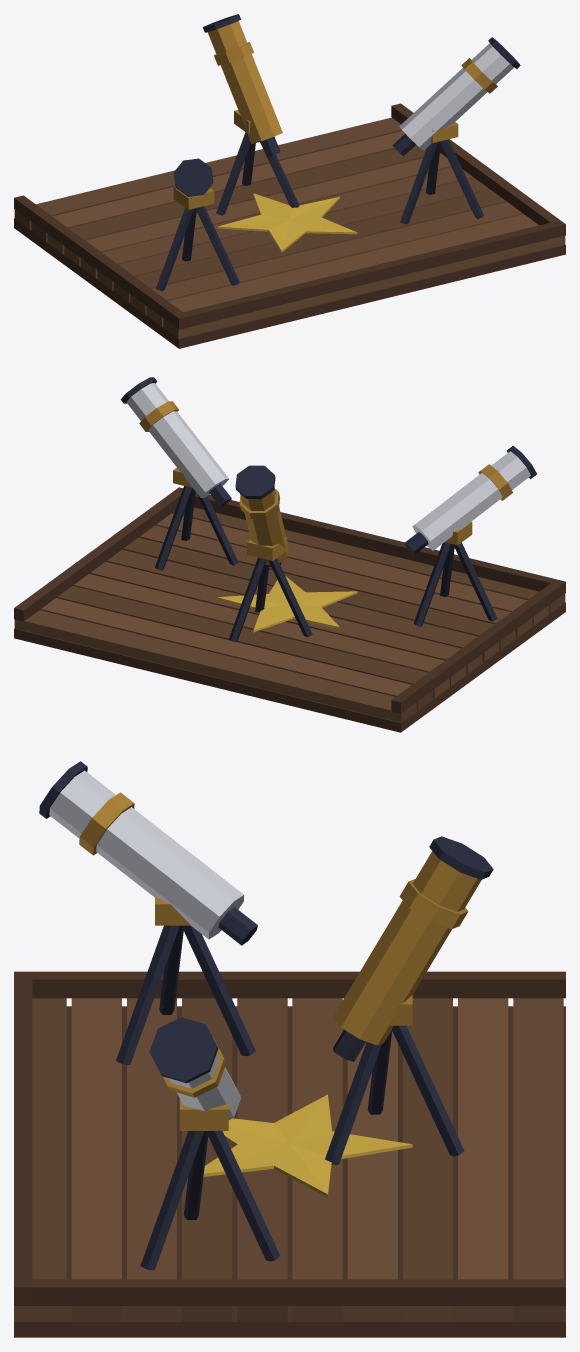
File: Decor_Observatory_Terrace.fbx
The picture shows the model from 3 angles, top to bottom: view 1: azimuth 30°, elevation 25°; view 2: azimuth 150°, elevation 25°; view 3: azimuth 270°, elevation 25°; orthographic projection. The views are drawn at different scales.
Visible parts, largest first — view 1: Terrace_Body; view 2: Terrace_Body; view 3: Terrace_Body.
Boxes of the visible parts, x1,y1,x2,y2 form: Terrace_Body: (14,14,565,348); Terrace_Body: (14,377,565,732); Terrace_Body: (14,761,565,1337).
Bounding box in the file's own units: 12.27 × 5.87 × 9.
